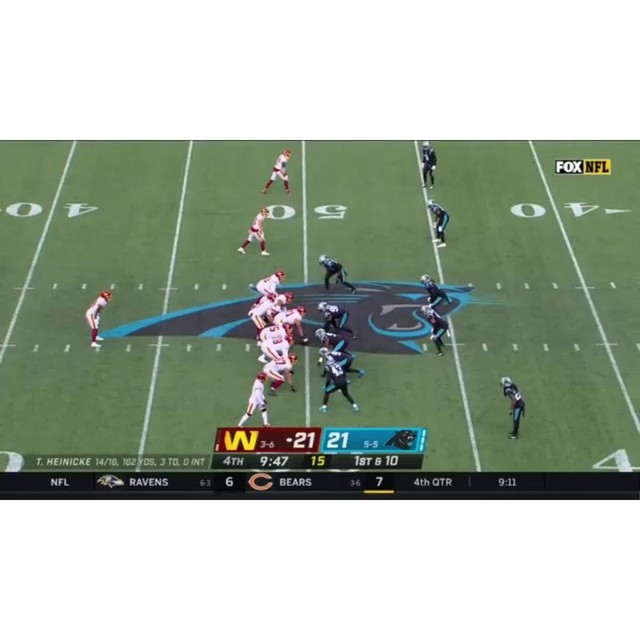american-football-player: (319, 355, 360, 412), (237, 372, 272, 429), (417, 305, 452, 357), (237, 207, 271, 257), (499, 378, 526, 440), (318, 254, 357, 295), (248, 295, 282, 342), (85, 290, 112, 348), (262, 353, 299, 395), (317, 301, 357, 338), (318, 348, 363, 380), (263, 149, 293, 195), (275, 306, 309, 345), (426, 199, 450, 248), (420, 274, 451, 311), (258, 334, 295, 364), (251, 269, 285, 298), (419, 142, 438, 190), (316, 329, 352, 354)
referee: (419, 142, 437, 190)
